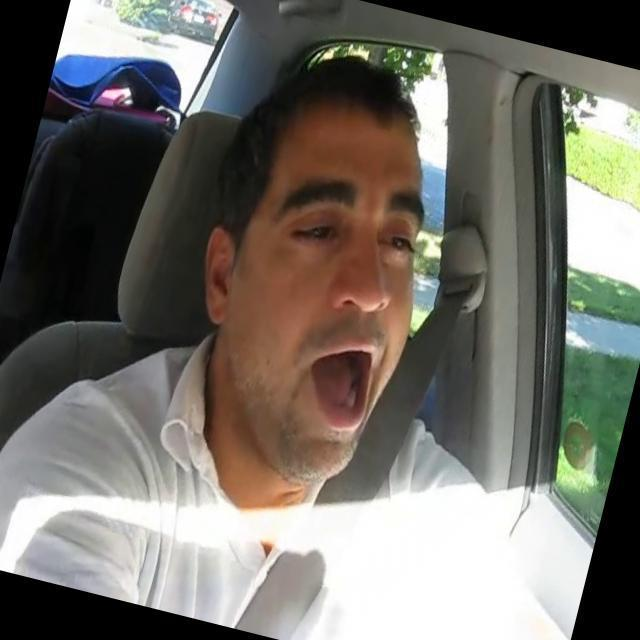open-mouth: (306, 344, 374, 431)
